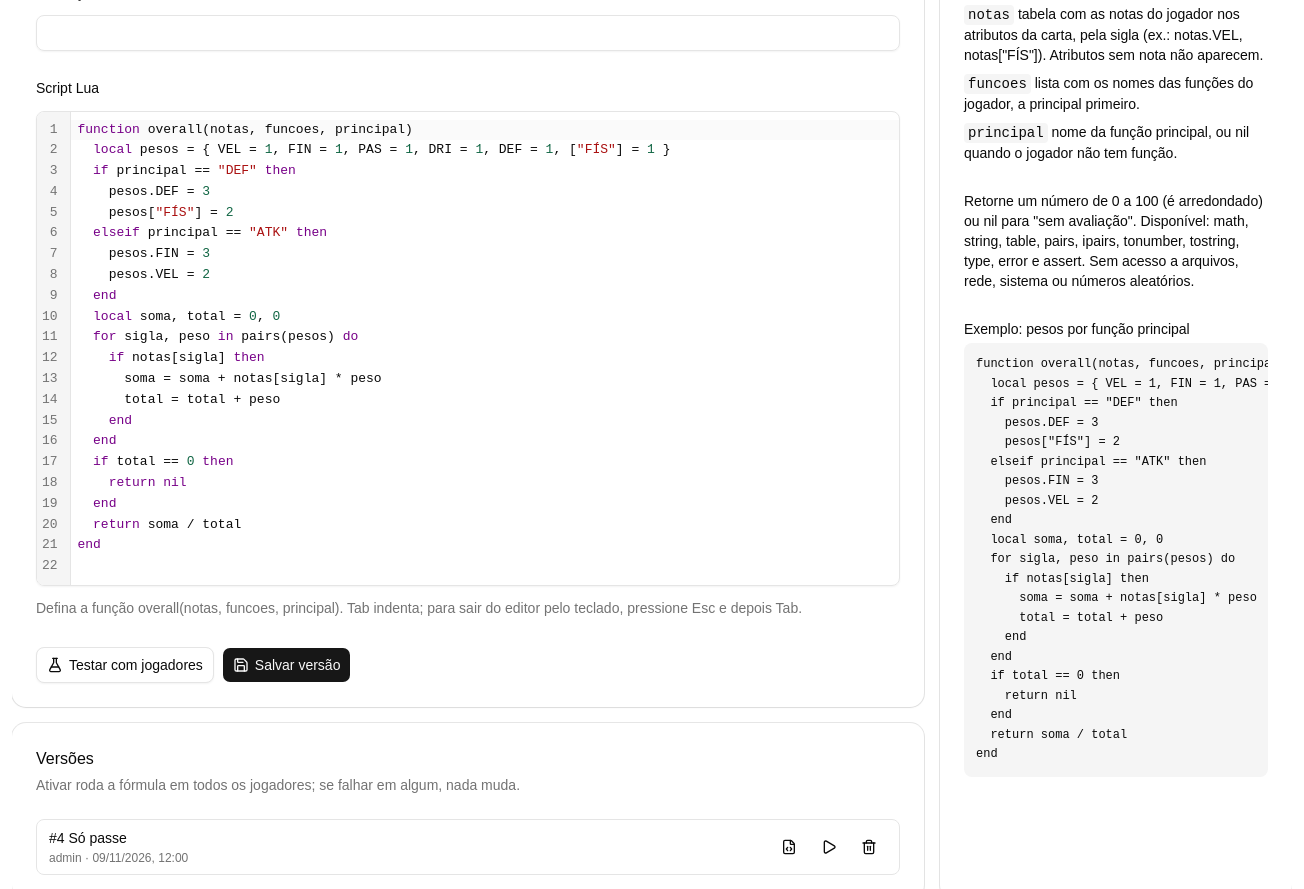
Test: FormulaPage › abre uma versão no editor
This screenshot has width=1304, height=889.
(page scrolled)
Click the button named "Abrir versão 4 no editor".
click(789, 847)  # box [771,829,807,865]
(page scrolled)
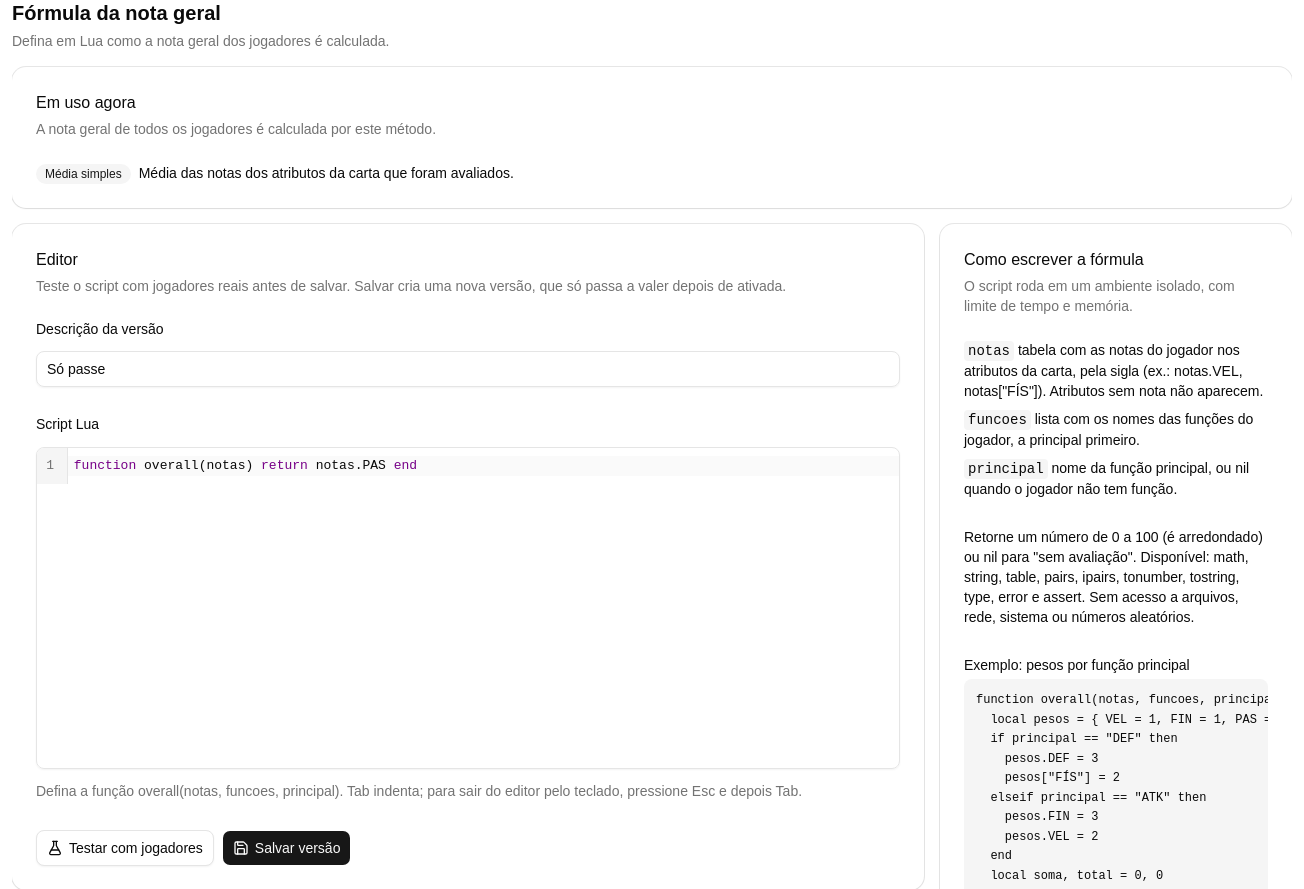
Now the field named "Script Lua" reads "function overall(notas) return notas.PAS end", box [68,456,899,476]
